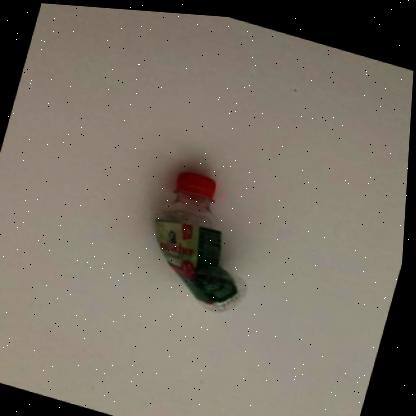Plastic: (155, 168, 248, 307)
